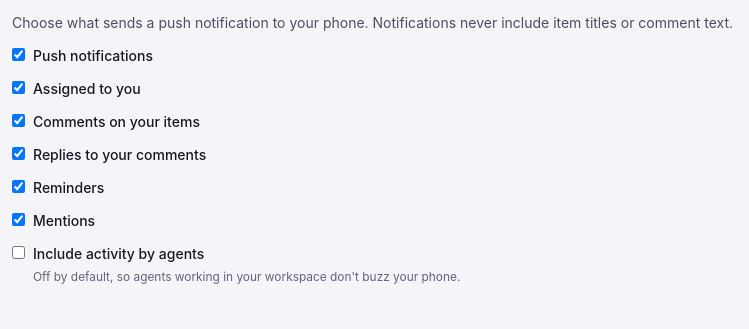
NotificationSettings › a failed save reverts the toggle, says why, and is not wedged
The image size is (749, 329).
Expected: the checkbox labelled "Push notifications" is shown, x1=12 y1=48 x2=25 y2=61
What coordinates should you click on to do the following:
click the checkbox labelled "Assigned to you"
I would click on:
 (18, 88)
Its box is x1=12 y1=81 x2=25 y2=94.
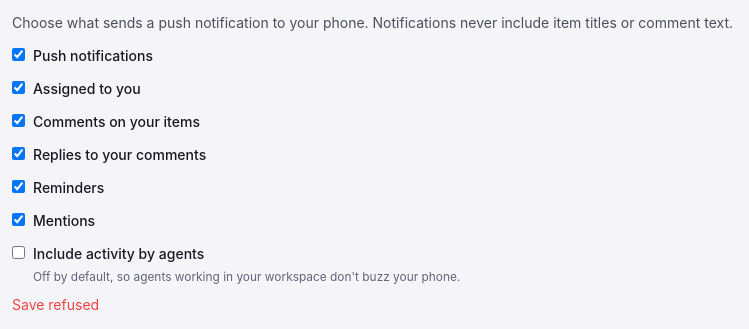
Expected: the message reads "Save refused", x1=12 y1=296 x2=99 y2=313
What coordinates should you click on to do the following:
click the checkbox labelled "Assigned to you"
I would click on:
 (18, 88)
Its box is x1=12 y1=81 x2=25 y2=94.
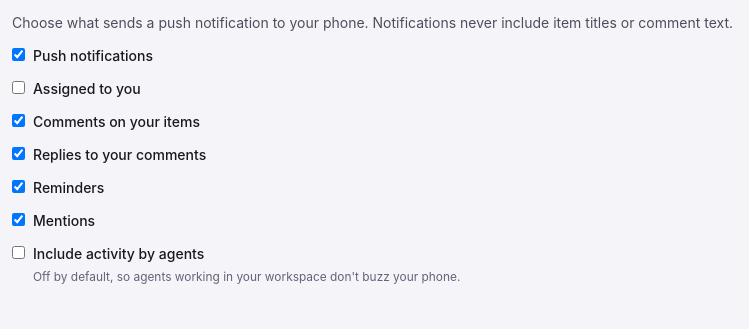
Expected: the checkbox labelled "Assigned to you" is not checked, x1=12 y1=81 x2=25 y2=94
Expected: the message "Save refused" is gone
